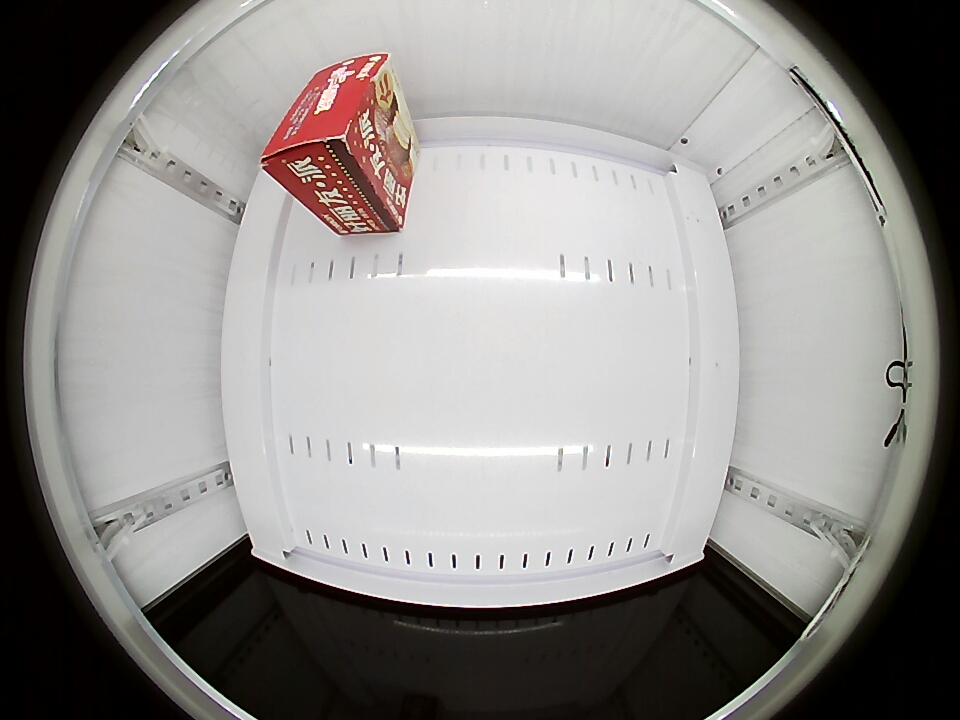haoliyou: (261, 53, 399, 202)
